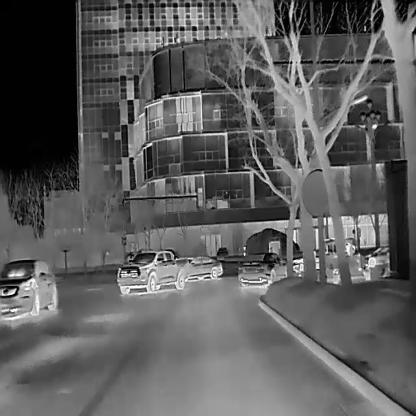car: (0, 257, 57, 321), (116, 247, 184, 294), (236, 250, 287, 288), (292, 247, 333, 278), (181, 254, 223, 281), (363, 244, 388, 267)
